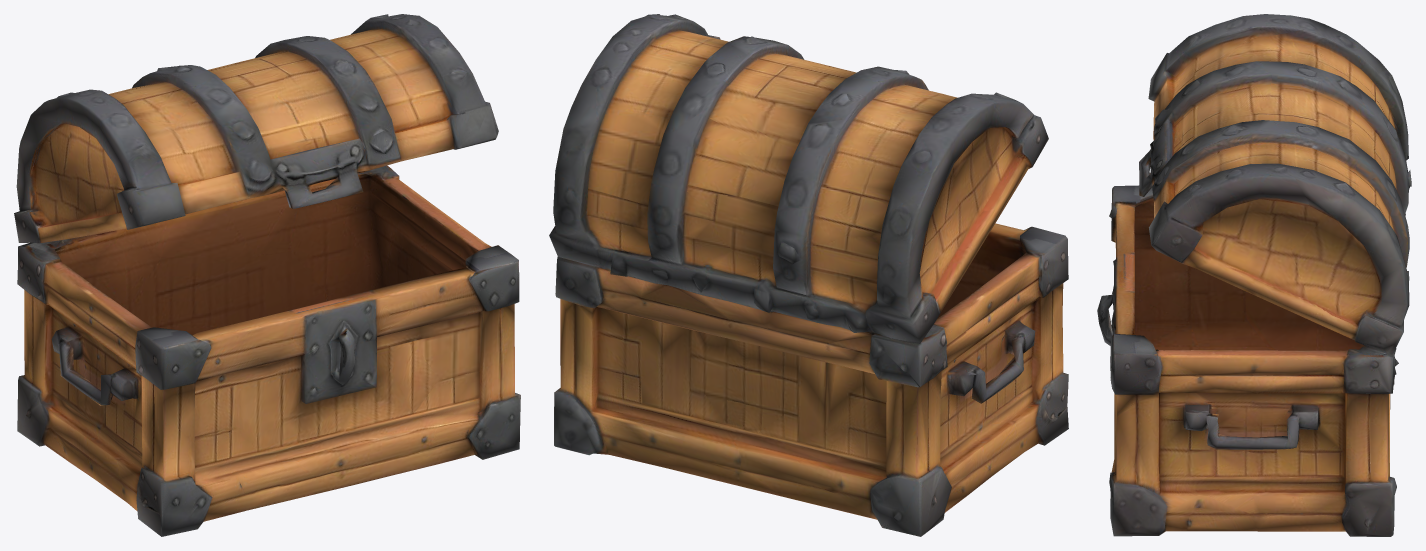
File: Climboria_Chest_Uncommon.glb
3 views of the same model, side by side, from view 1: azimuth 30°, elevation 25°; view 2: azimuth 150°, elevation 25°; view 3: azimuth 270°, elevation 25° (orthographic). The views are drawn at different scales.
Parts seen in each view (by area): view 1: Climboria_Chest_uncommon; view 2: Climboria_Chest_uncommon; view 3: Climboria_Chest_uncommon.
Boxes of the visible parts, x1=… form: Climboria_Chest_uncommon: x1=14, y1=14, x2=520, y2=536; Climboria_Chest_uncommon: x1=549, y1=14, x2=1068, y2=536; Climboria_Chest_uncommon: x1=1097, y1=14, x2=1411, y2=536.
Size of the model in its own units: 2.01 by 1.88 by 1.49.
Materials: 1 (1 with a texture image).
